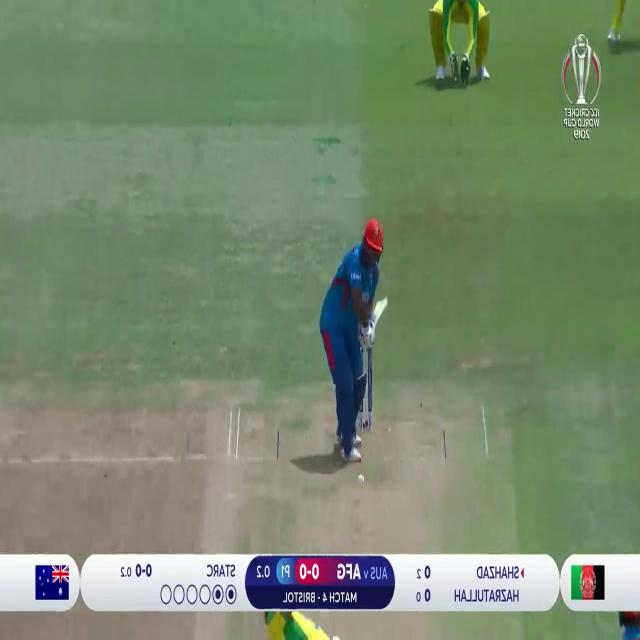ball: (356, 470, 366, 487)
